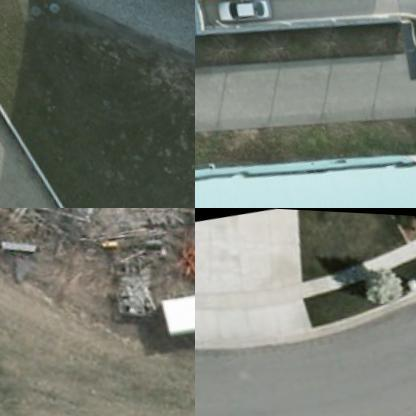camping car: (151, 274, 194, 337)
car: (209, 0, 268, 25)
